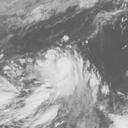cyclone: (26, 47, 90, 100)
